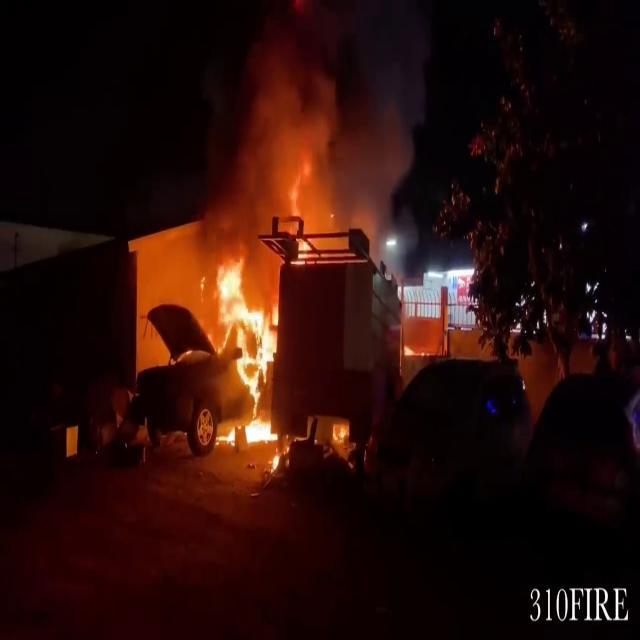Fire: (207, 251, 287, 448)
Smoke: (193, 9, 434, 251)
